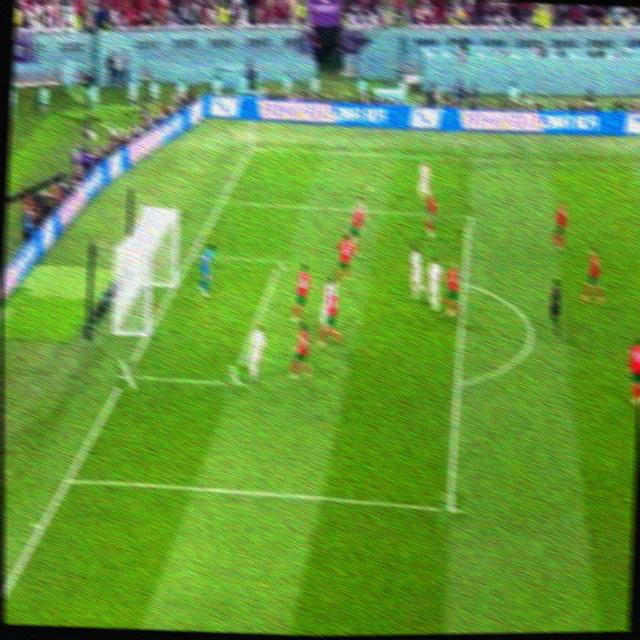bigarea_bottom_inner: (437, 492, 464, 522)
bigarea_bottom_outter: (59, 466, 80, 494)
bigarea_top_inner: (460, 204, 479, 227)
bigarea_top_outter: (214, 191, 233, 209)
bottom_arc_area_intersection: (450, 372, 470, 397)
corner: (242, 140, 263, 156)
smallarea_bottom_inner: (222, 364, 248, 399)
smallarea_bottom_outter: (115, 359, 139, 389)
smallarea_top_inner: (271, 247, 291, 271)
smallarea_top_outter: (181, 243, 202, 266)
top_arc_area_intersection: (455, 268, 476, 294)
